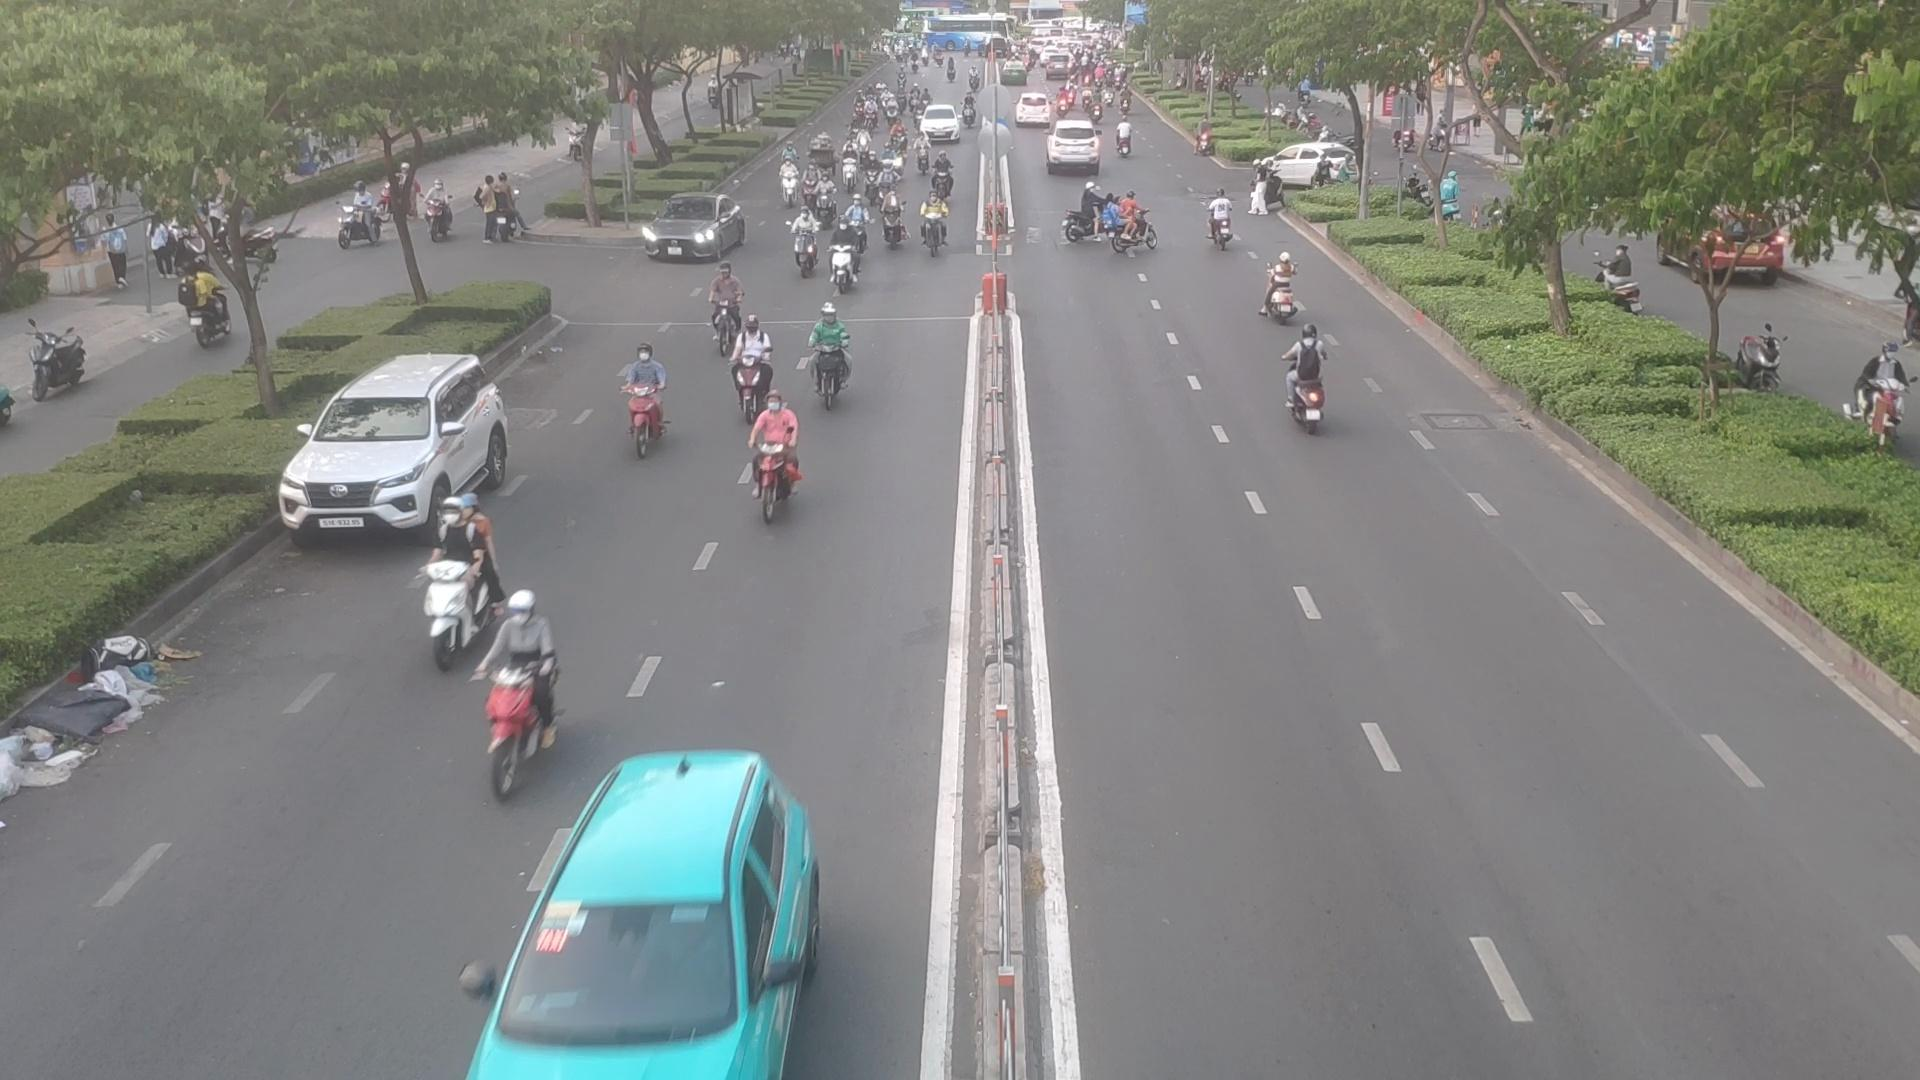car: (425, 720, 848, 1080), (280, 355, 513, 549), (637, 194, 746, 261), (1259, 142, 1360, 189), (1044, 119, 1105, 174), (919, 105, 963, 138)
motorbike: (477, 591, 563, 789), (430, 506, 512, 662), (1276, 323, 1335, 431), (620, 338, 669, 448), (752, 396, 795, 504), (1257, 255, 1305, 328), (815, 305, 849, 397), (1109, 194, 1163, 252), (1068, 181, 1117, 243), (713, 265, 742, 360), (740, 311, 766, 404), (1203, 191, 1232, 252), (833, 219, 852, 289), (815, 171, 837, 225), (880, 194, 902, 247), (795, 208, 814, 272), (843, 194, 864, 247), (920, 196, 943, 244), (779, 156, 798, 200), (1116, 119, 1135, 157), (804, 161, 819, 200), (916, 138, 931, 173), (934, 156, 949, 186), (843, 148, 855, 186), (866, 156, 878, 193), (893, 123, 906, 148), (858, 129, 869, 156)
